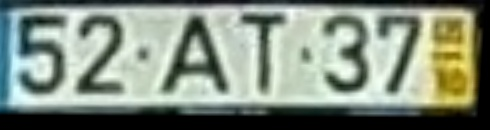2: (72, 12, 130, 99)
3: (321, 12, 374, 99)
5: (14, 13, 71, 100)
7: (375, 13, 427, 102)
A: (151, 12, 235, 98)
T: (238, 12, 292, 102)
